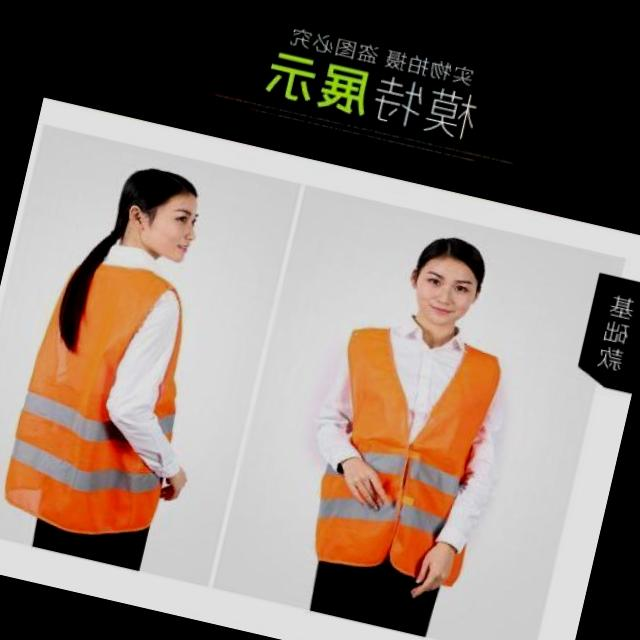vest: (0, 256, 218, 547), (302, 316, 508, 590)
